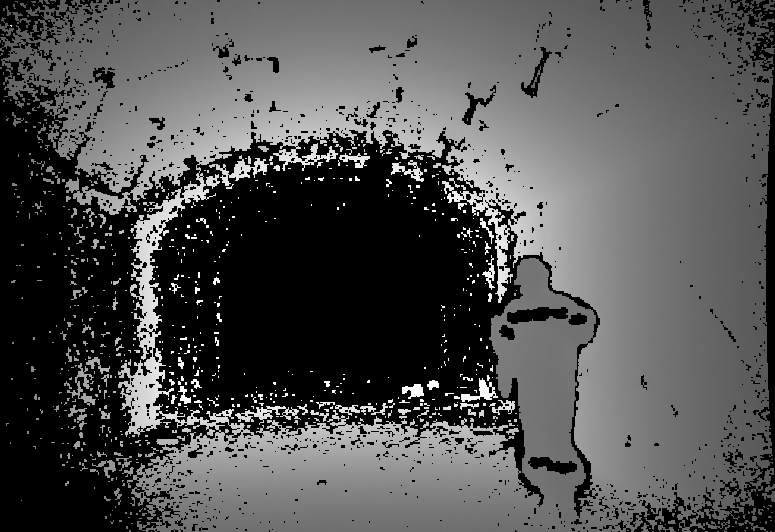person: (490, 257, 597, 517)
